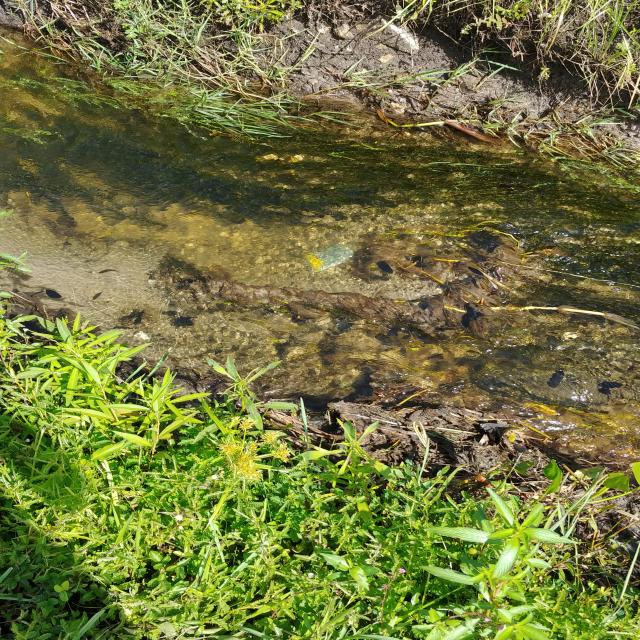litter: (301, 241, 361, 271)
